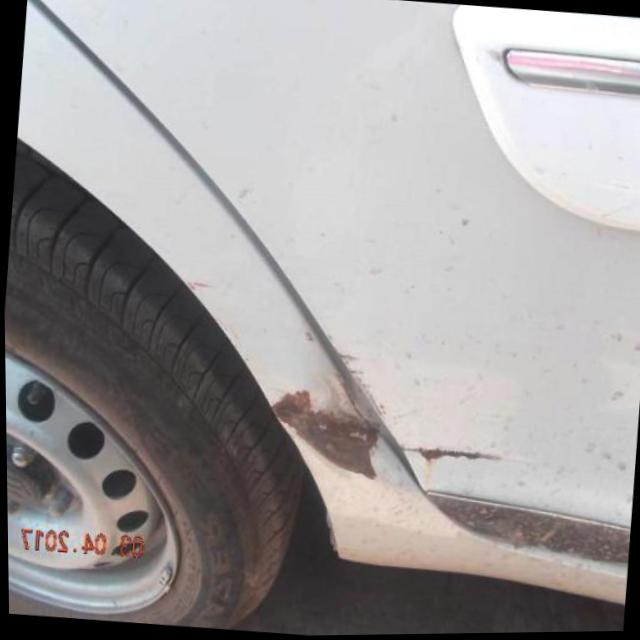Car-Damage: (263, 345, 391, 486), (395, 430, 503, 474)
